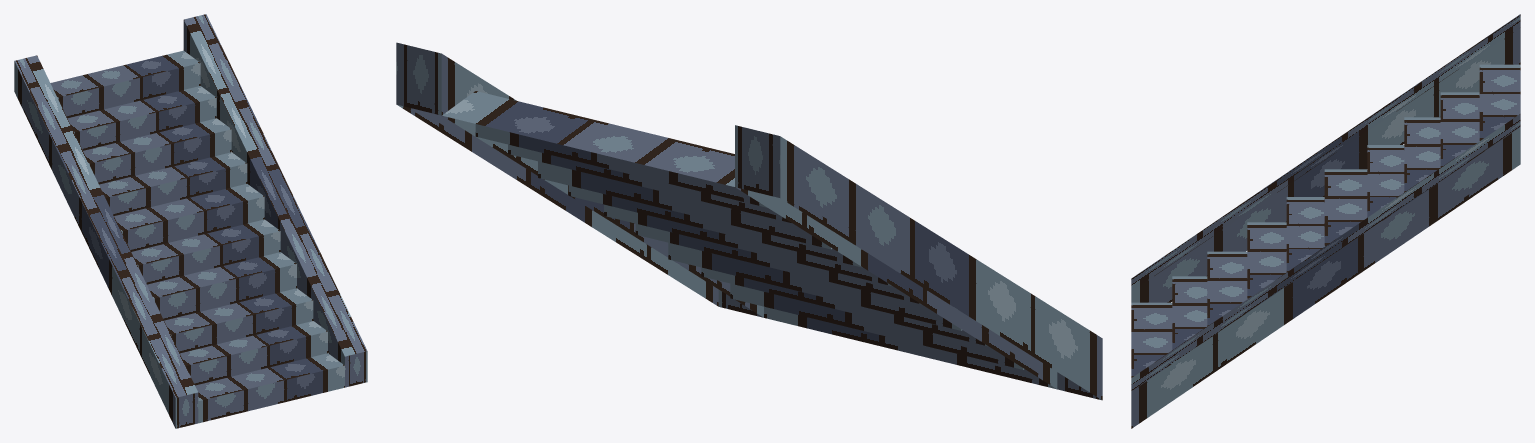
The model's file is RUI-03_Escalinata.gltf.
3 views of the same model, side by side, from view 1: azimuth 30°, elevation 25°; view 2: azimuth 150°, elevation 25°; view 3: azimuth 270°, elevation 25° (orthographic). The views are drawn at different scales.
Parts seen in each view (by area): view 1: RUI-03_Escalinata-col; view 2: RUI-03_Escalinata-col; view 3: RUI-03_Escalinata-col.
Part boxes in pixels (x1,y1,x2,y2): RUI-03_Escalinata-col: [14, 14, 367, 428]; RUI-03_Escalinata-col: [396, 42, 1102, 400]; RUI-03_Escalinata-col: [1131, 14, 1520, 428].
Bounding box in the file's own units: 2.2 × 2.74 × 3.2.
1 material, 1 textured.
